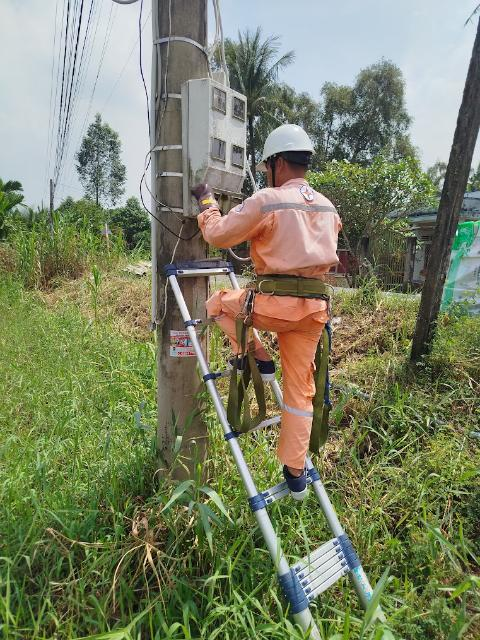gloves: (186, 182, 222, 221)
harness: (226, 253, 354, 320)
helmet: (246, 122, 311, 172)
shoes: (271, 447, 320, 503), (227, 351, 284, 384)
